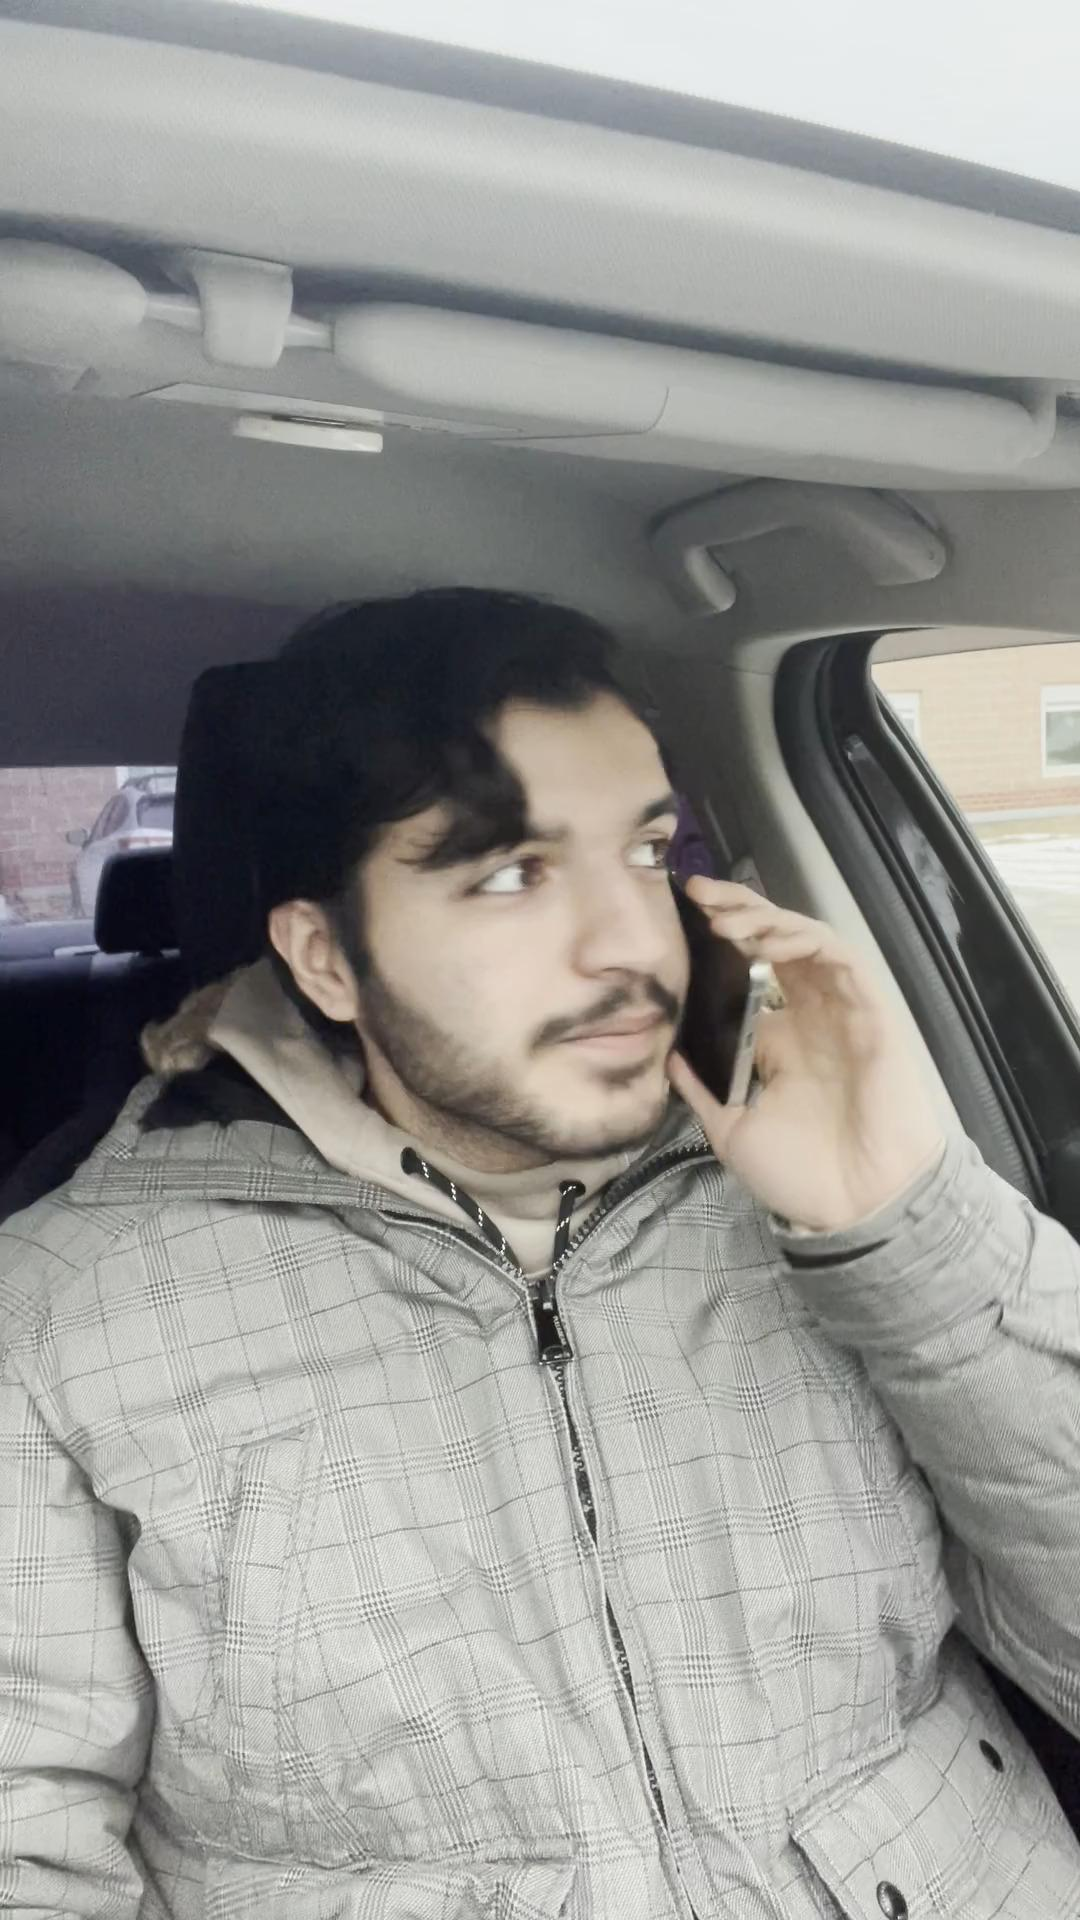mobile: (665, 840, 829, 1160)
no_seatbelt: (187, 1113, 914, 1920)
